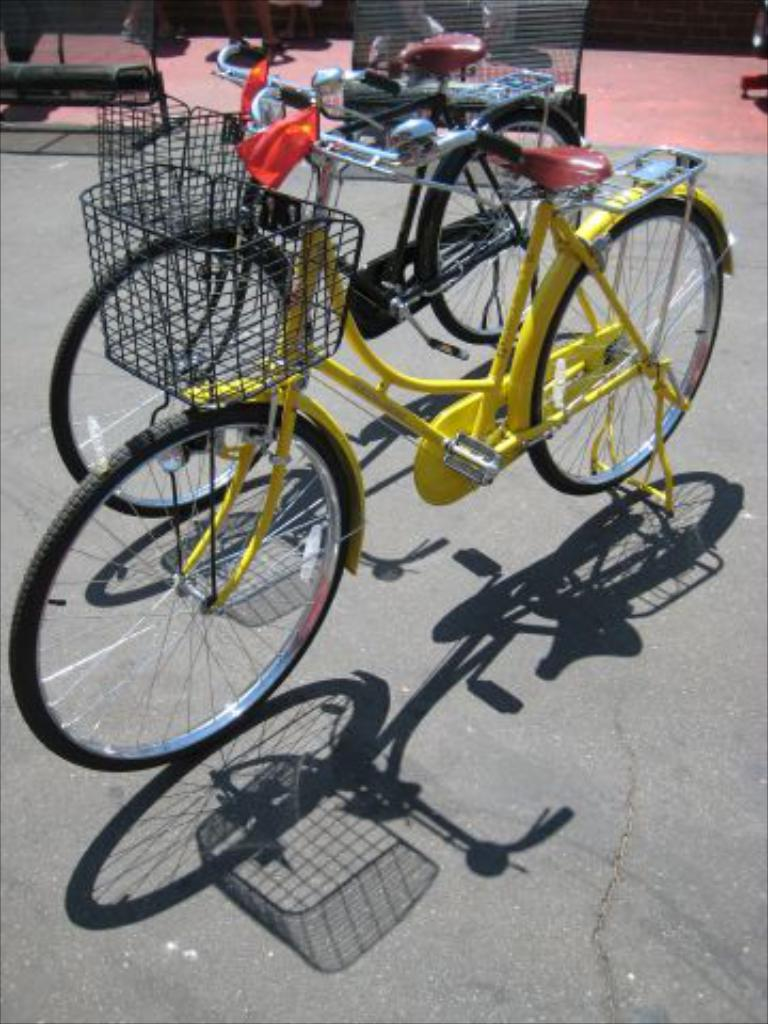Bike: (30, 97, 702, 804)
